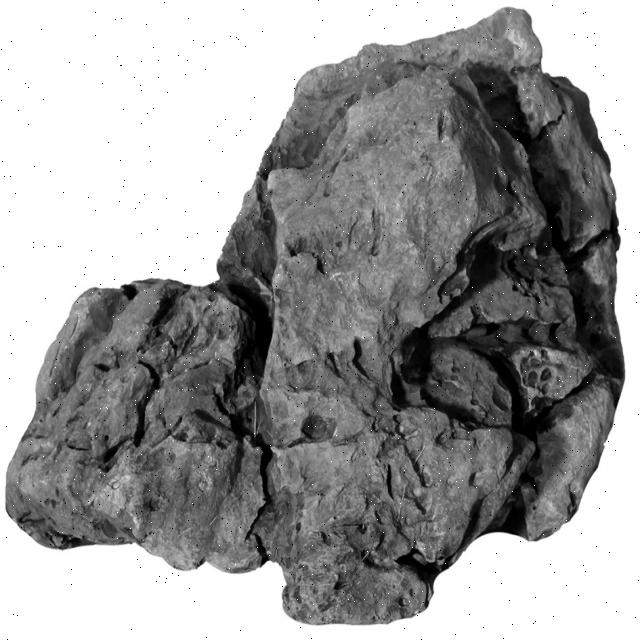Igneous: (1, 10, 630, 635)
